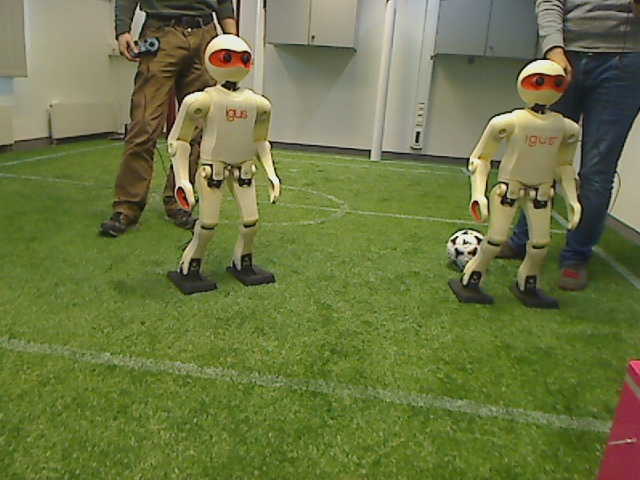ball: (443, 227, 490, 274)
robot: (163, 31, 285, 299), (456, 57, 579, 309)
